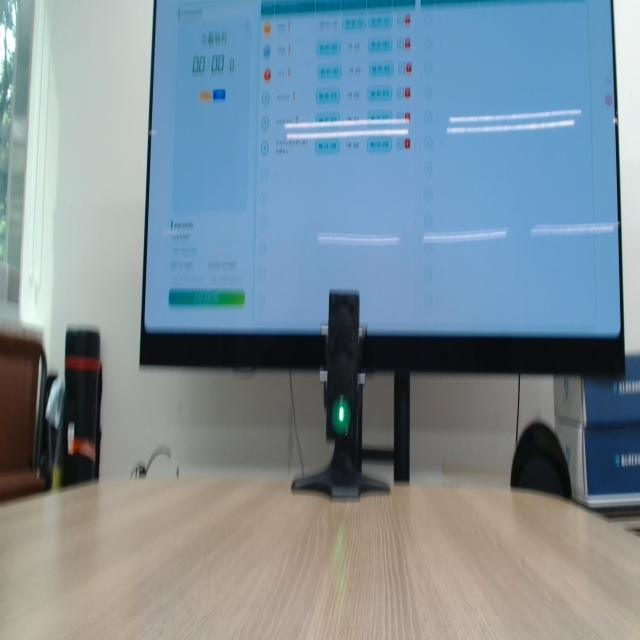green_light: (332, 396, 351, 436), (339, 406, 344, 421)
